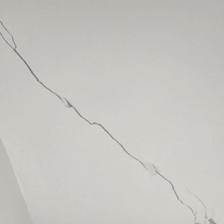Medium: (14, 45, 192, 210)
